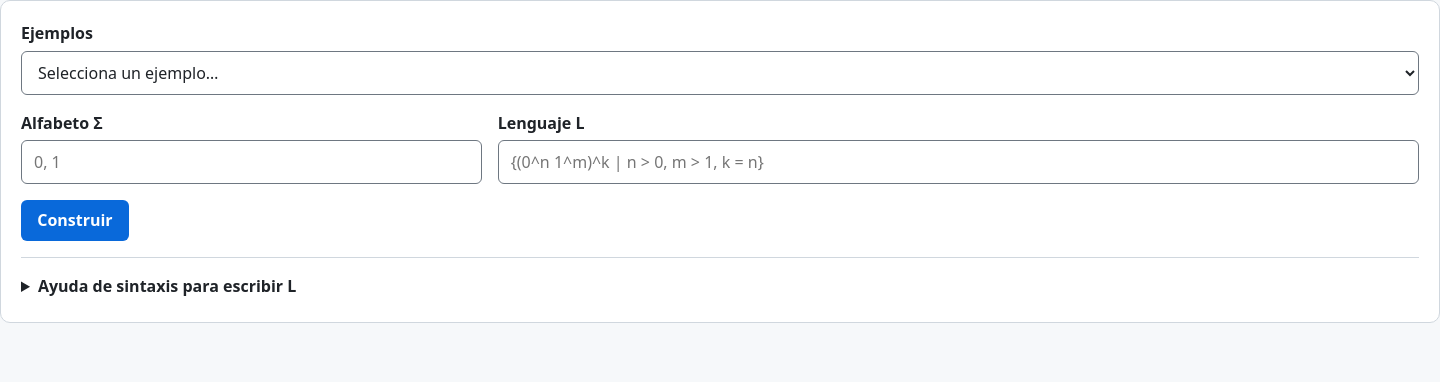
Test: InputPanel › muestra el mensaje de error al escribir un L inválido y presionar Construir
The image size is (1440, 382).
Type "a, b" into the field labelled "Alfabeto Σ" at point(251, 162), box [21,140,482,184]
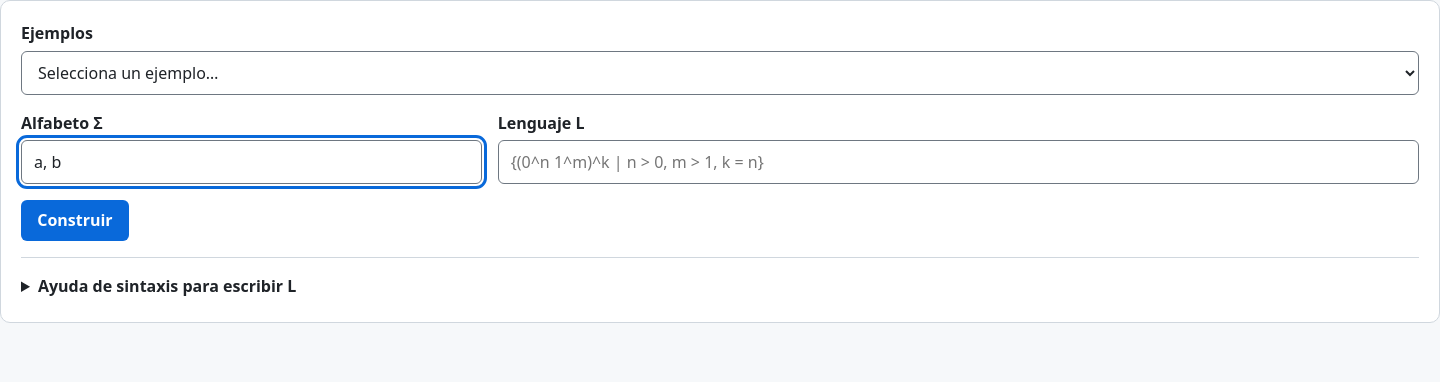
Type "a^n c^n" into the field labelled "Lenguaje L" at point(958, 162), box [498,140,1419,184]
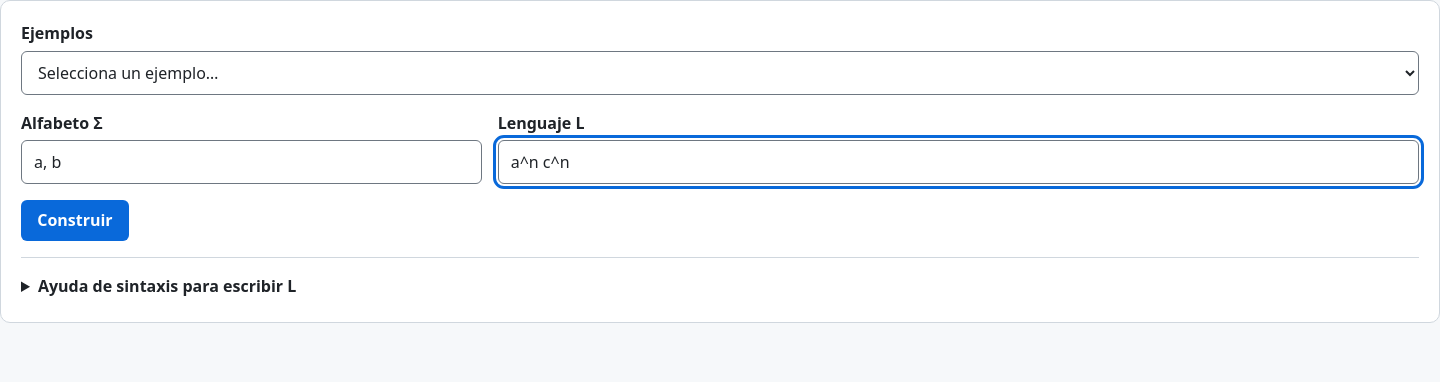
Click the button "Construir" at point(75, 220), box [21,200,129,241]
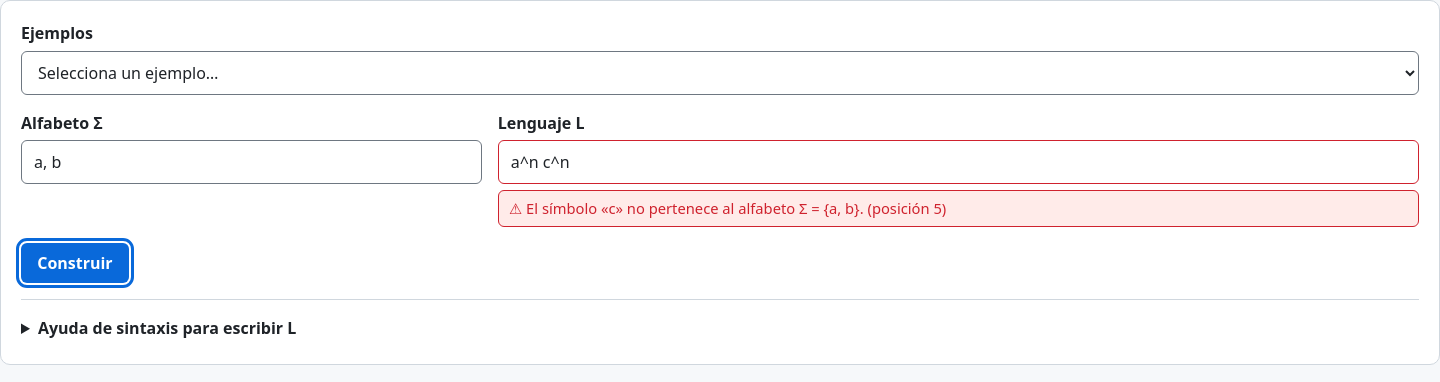
Now the message shows "c", box [526,198,946,218]
